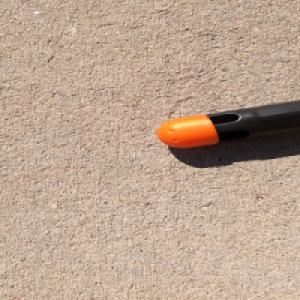PlasticPart: (155, 98, 300, 150)
